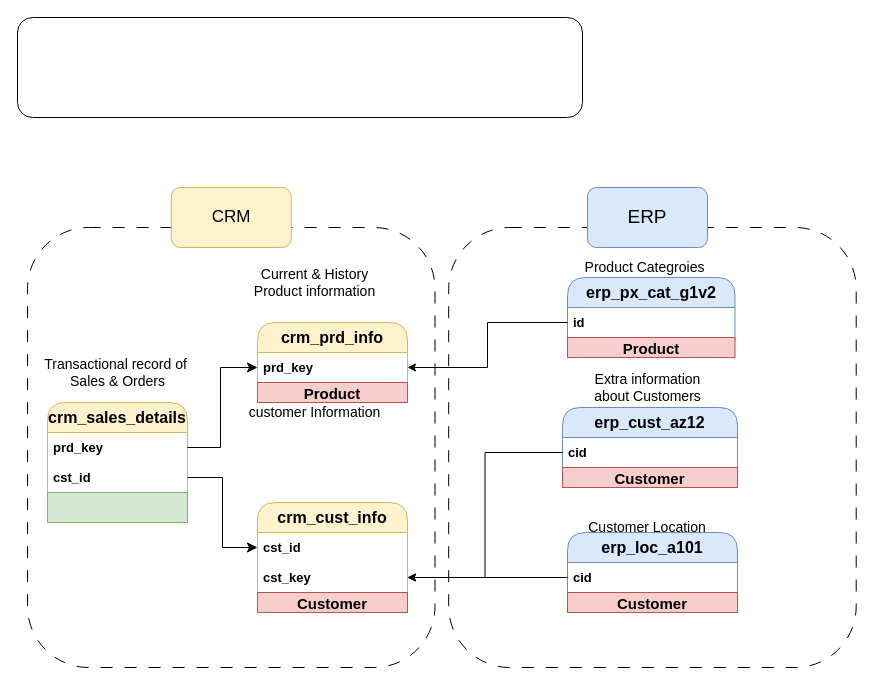
Image size: 874x685. Some labels were removed from this diagram. The shapes that lost their labels are listed below. From the top down, each one's centre as x and y in pixels, then its label:
At (299,67): "Intergration Model ( How tables are connected)".
At (117,507): "Sales".
